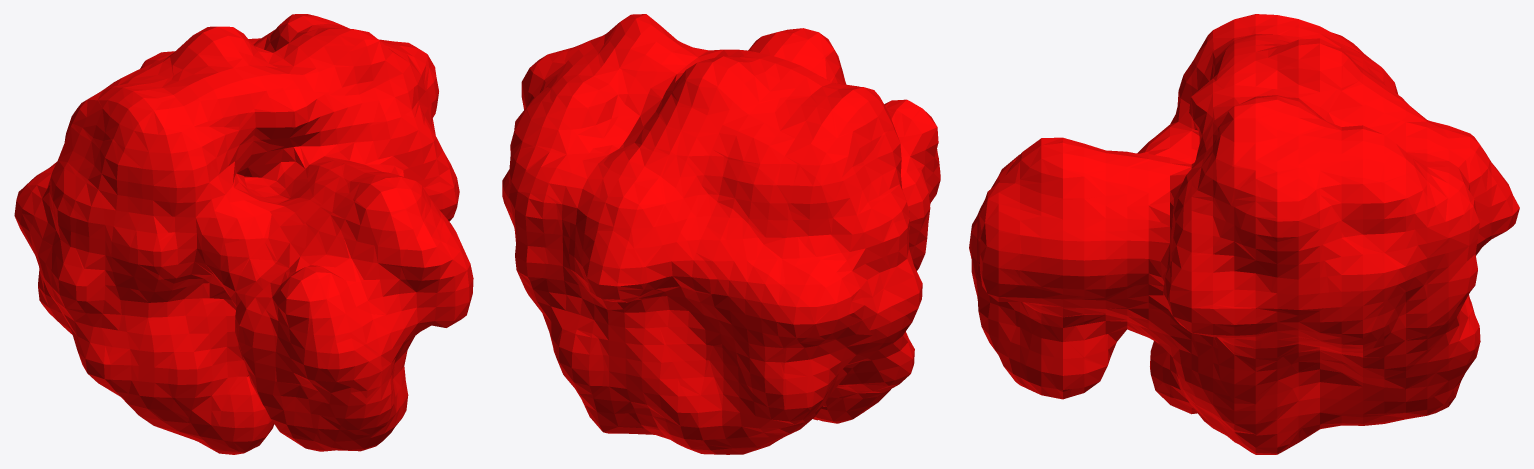
The model's file is acs_coarse.dae.
3 renders of one model, left to right at view 1: azimuth 30°, elevation 25°; view 2: azimuth 150°, elevation 25°; view 3: azimuth 270°, elevation 25°, orthographic. The views are drawn at different scales.
Parts seen in each view (by area): view 1: acs; view 2: acs; view 3: acs.
Boxes of the visible parts, box(x1,y1,x2,y2) form: acs: box(14, 14, 473, 454); acs: box(502, 14, 940, 454); acs: box(969, 14, 1519, 454).
Size of the model in its own units: 66.58 by 62.84 by 80.35.
